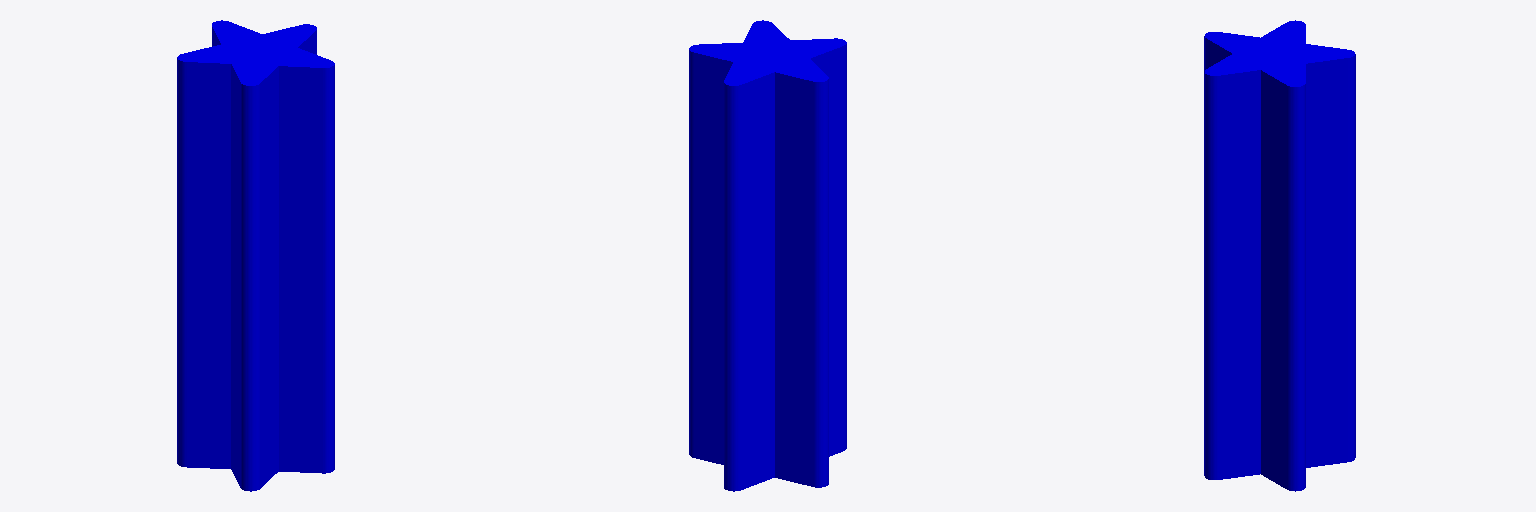
The robot description file, URDF, robot "board3_block9":
<?xml version="1.0"?>
<robot name="board3_block9">
    <link name="board3_block9">
        <visual>
            <origin xyz="0 0 0 " rpy=" 0 0 0"/>
            <geometry>
                <mesh filename="../meshes/SIMO_Board3_Block9.stl" scale="0.001 0.001 0.001"/>
            </geometry>
            <material name="red">
                <color rgba="0.0 0.0 1.0 1.0"/>
            </material>
        </visual>
        <collision>
            <origin xyz="0 0 0" rpy="0 0 0"/>
            <geometry>
                <mesh filename="../meshes/SIMO_Board3_Block9.stl" scale="0.001 0.001 0.001"/>
            </geometry>
        </collision>
    </link>
</robot>

--- What the picture shows (computed from the rendered views, not written in the file) ---
The picture shows the robot from 3 angles, left to right: view 1: azimuth 30°, elevation 25°; view 2: azimuth 150°, elevation 25°; view 3: azimuth 270°, elevation 25°; orthographic projection.
Model board3_block9 with 1 links and 0 joints (none), rooted at board3_block9, posed all joints at 0.
Visible links, largest first — view 1: board3_block9; view 2: board3_block9; view 3: board3_block9.
Link boxes in pixels (bbox=[...]): board3_block9: bbox=[177, 20, 334, 491]; board3_block9: bbox=[689, 20, 846, 491]; board3_block9: bbox=[1204, 20, 1355, 491].
Bounding box of the posed robot: 0.0354 × 0.0338 × 0.1 m (x, y, z).
Meshes: 1 distinct files referenced, 1 mesh visuals loaded (1 ASCII STL).
